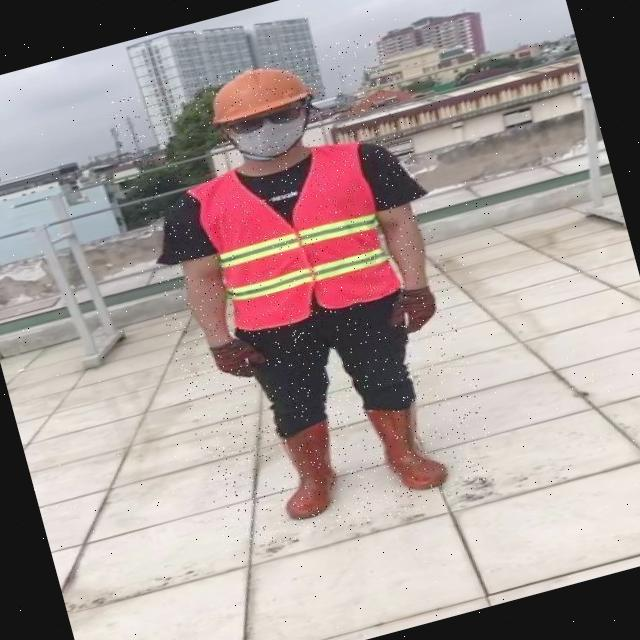boots: (366, 389, 452, 502), (267, 416, 351, 522)
helmet: (194, 56, 318, 128)
vest: (182, 132, 410, 340)
